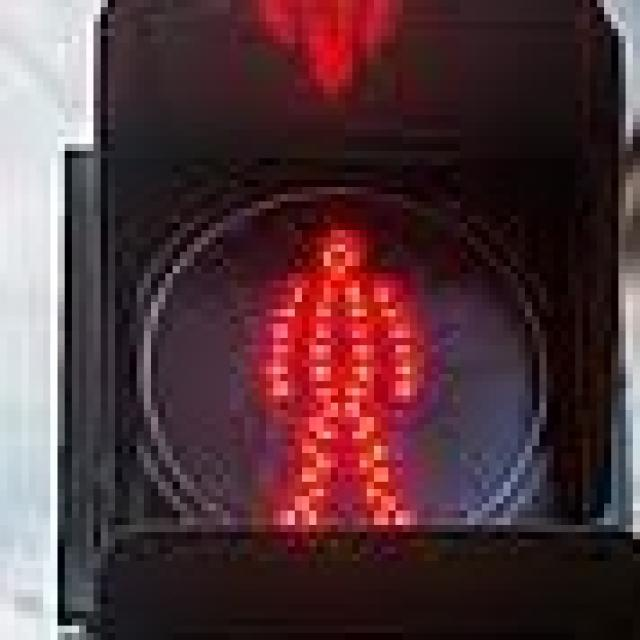red-crossing: (216, 186, 453, 546)
